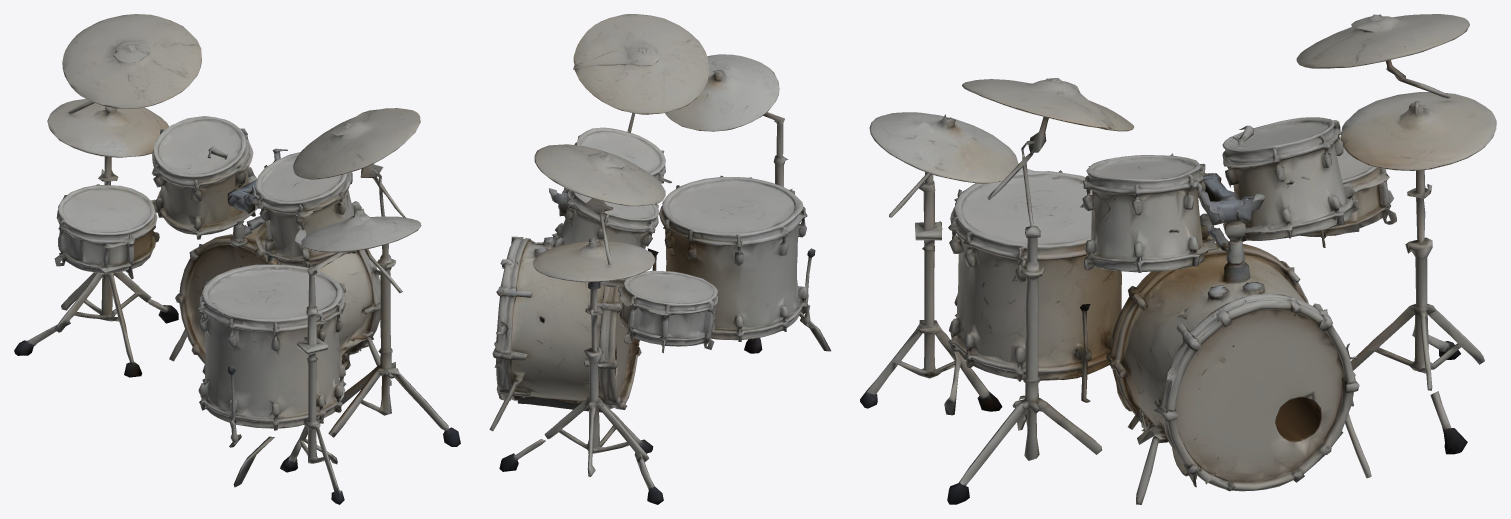
Rendered from drums.glb.
3 renders of one model, left to right at view 1: azimuth 30°, elevation 25°; view 2: azimuth 150°, elevation 25°; view 3: azimuth 270°, elevation 25°, orthographic. The views are drawn at different scales.
Parts seen in each view (by area): view 1: tripo_node_5f542f51-e48d-48f4-add7-26d922ca5289; view 2: tripo_node_5f542f51-e48d-48f4-add7-26d922ca5289; view 3: tripo_node_5f542f51-e48d-48f4-add7-26d922ca5289.
Boxes of the visible parts, x1,y1,x2,y2 form: tripo_node_5f542f51-e48d-48f4-add7-26d922ca5289: (14, 14, 460, 504); tripo_node_5f542f51-e48d-48f4-add7-26d922ca5289: (489, 14, 830, 504); tripo_node_5f542f51-e48d-48f4-add7-26d922ca5289: (860, 14, 1496, 504).
Bounding box in the file's own units: 0.6005 × 0.6871 × 1.
1 material, 1 textured.
